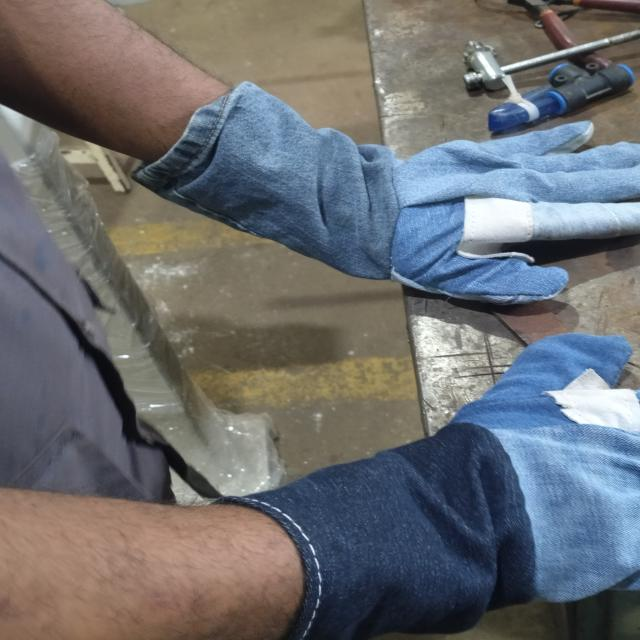Gloves-Detection: (246, 331, 640, 640), (217, 80, 640, 316)
